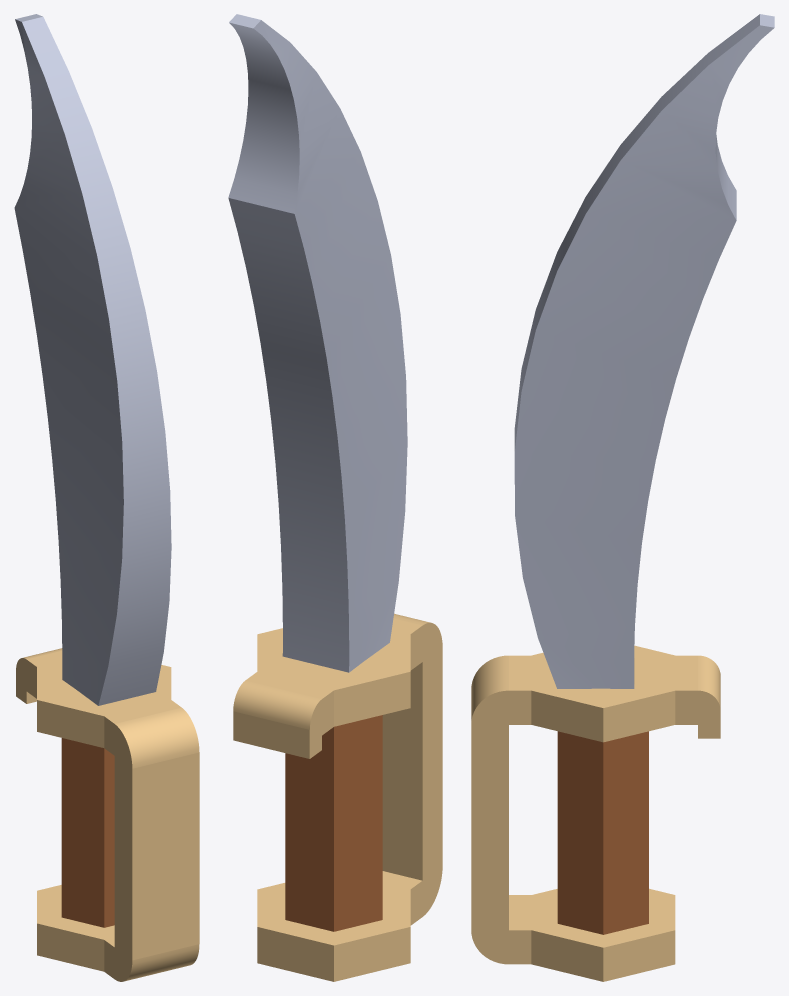
File: swordScimitar.glb
The picture shows the model from 3 angles, left to right: view 1: azimuth 30°, elevation 25°; view 2: azimuth 150°, elevation 25°; view 3: azimuth 270°, elevation 25°; orthographic projection. The views are drawn at different scales.
Visible parts, largest first — view 1: swordScimitar; view 2: swordScimitar; view 3: swordScimitar.
Part boxes in pixels (<box>): swordScimitar: <box>14,14,199,981</box>; swordScimitar: <box>228,14,442,981</box>; swordScimitar: <box>471,14,774,981</box>.
Size of the model in its own units: 0.11 by 0.6779 by 0.201.
